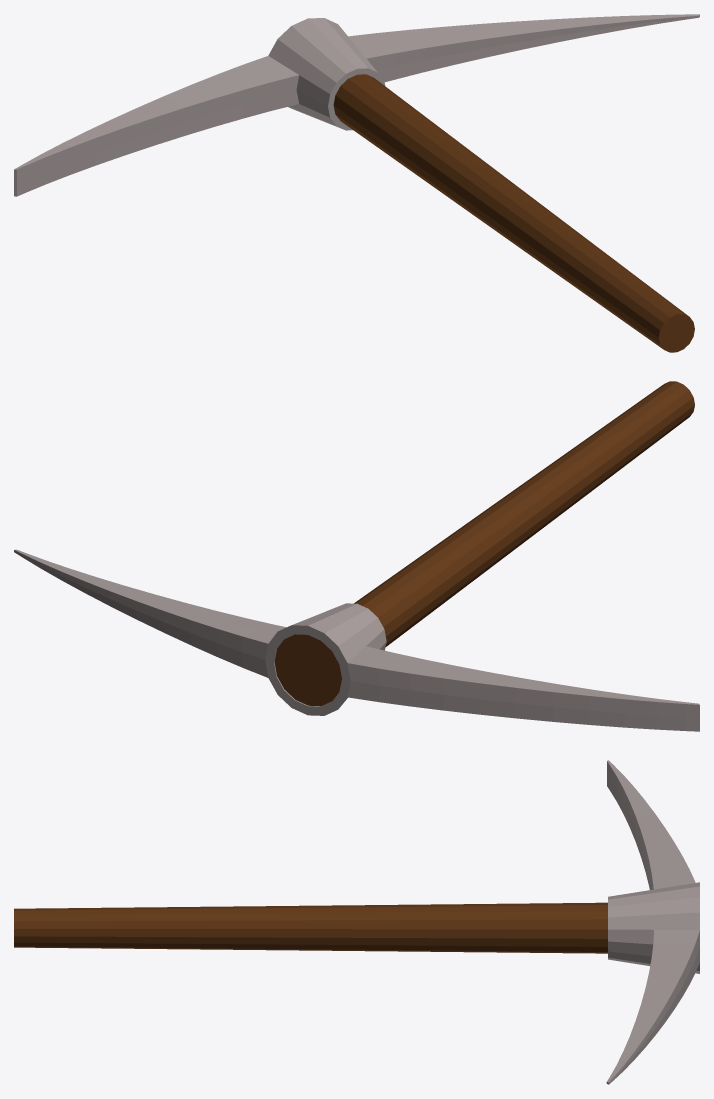
The model's file is Iron Pickaxe.fbx.
3 views of the same model, one above another, from view 1: azimuth 30°, elevation 25°; view 2: azimuth 150°, elevation 25°; view 3: azimuth 270°, elevation 25° (orthographic). The views are drawn at different scales.
Parts seen in each view (by area): view 1: Cylinder, Cylinder.001; view 2: Cylinder, Cylinder.001; view 3: Cylinder.001, Cylinder.
Part boxes in pixels (bbox=[...]): Cylinder: bbox=[14, 14, 699, 196]; Cylinder.001: bbox=[333, 74, 694, 352]; Cylinder: bbox=[14, 549, 699, 731]; Cylinder.001: bbox=[274, 381, 694, 706]; Cylinder.001: bbox=[14, 902, 607, 953]; Cylinder: bbox=[606, 760, 699, 1084].
Size of the model in its own units: 1602 by 200 by 1493.
